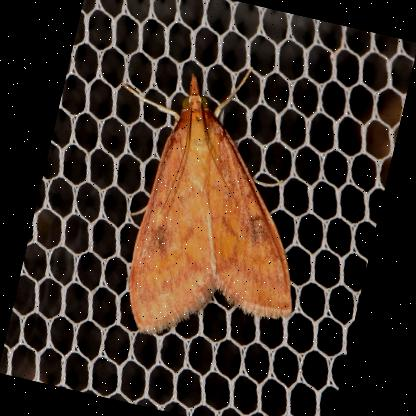Asian Corn Borer Moth: (64, 36, 348, 369)
